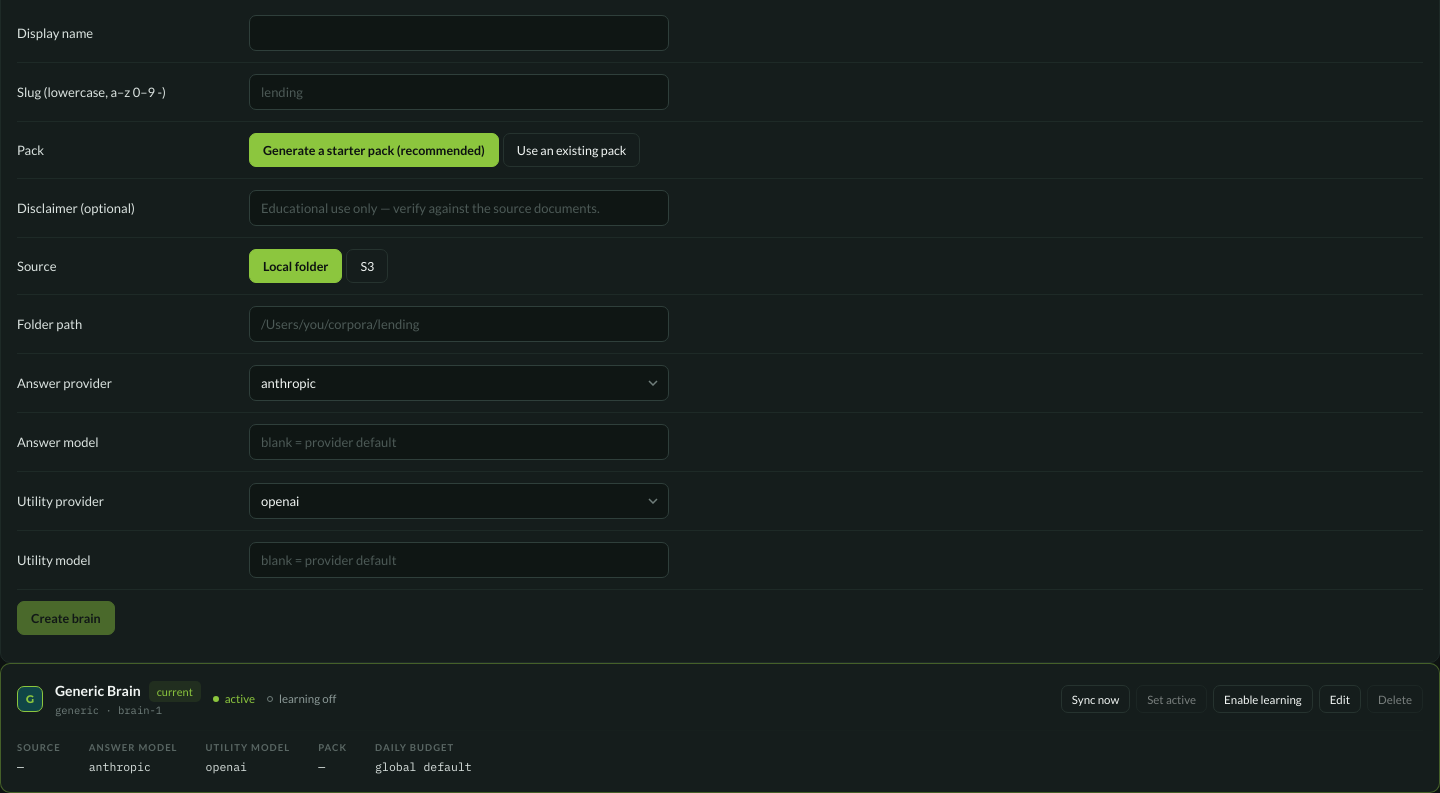
Test case: Brains learning toggle › shows learning off and enables it when the operator clicks the toggle
(page scrolled)
Check: the text "Generic Brain" is shown, box [55, 682, 141, 699]
Check: the text "learning off" is shown, box [267, 690, 336, 708]
Click the button "Enable learning": (1263, 699) [1213, 685, 1313, 713]
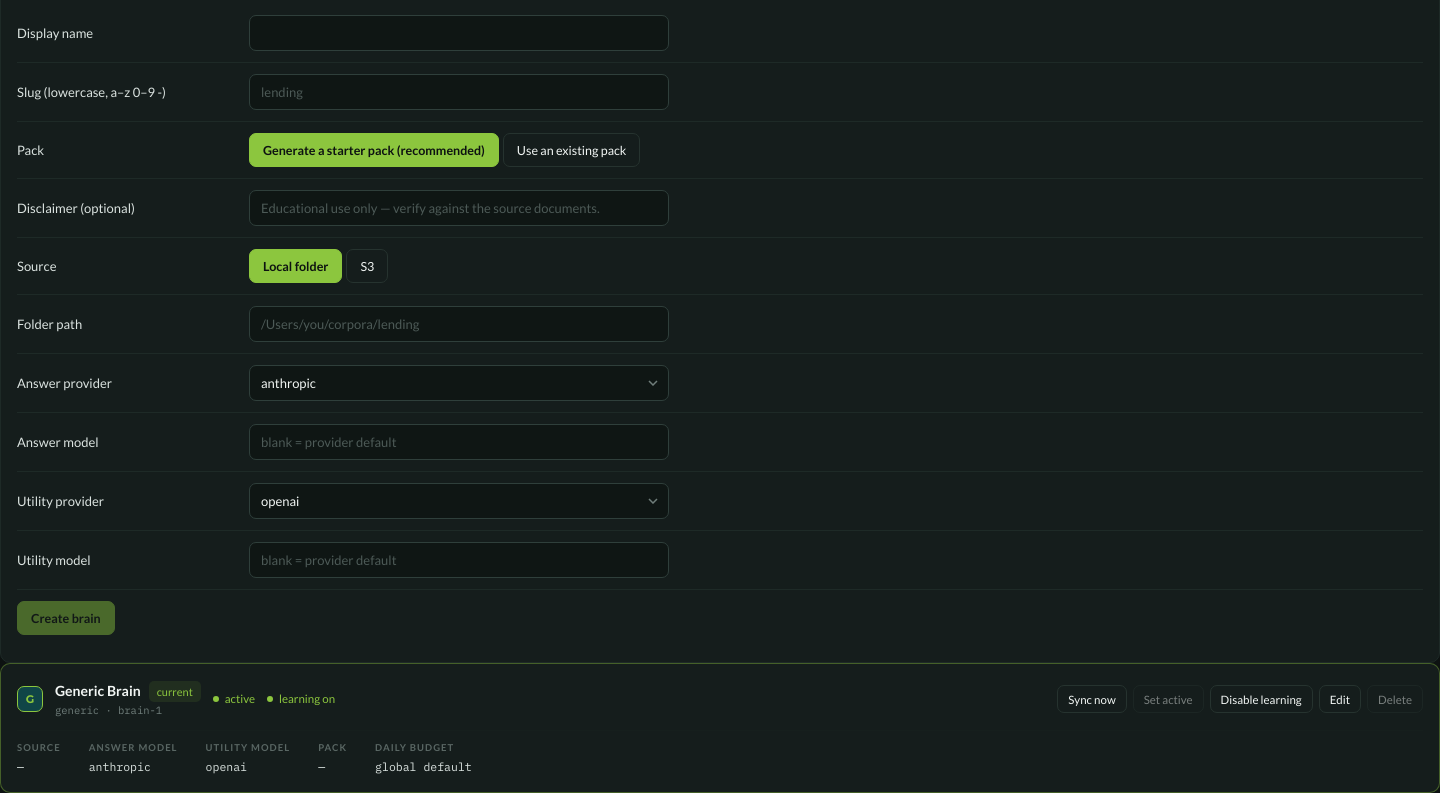
Check: the text "learning on" is shown, box [267, 690, 335, 708]
